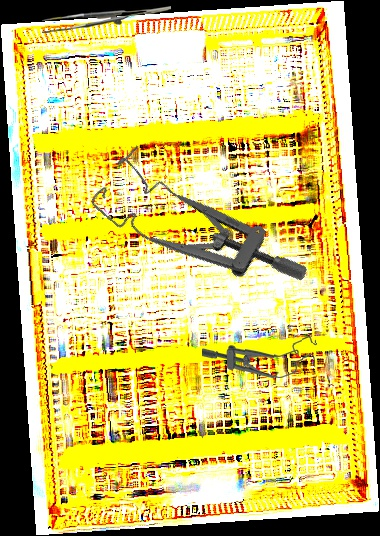Speculum: (84, 128, 312, 340), (201, 336, 318, 381)
Tissue Forceps: (42, 6, 171, 33)
